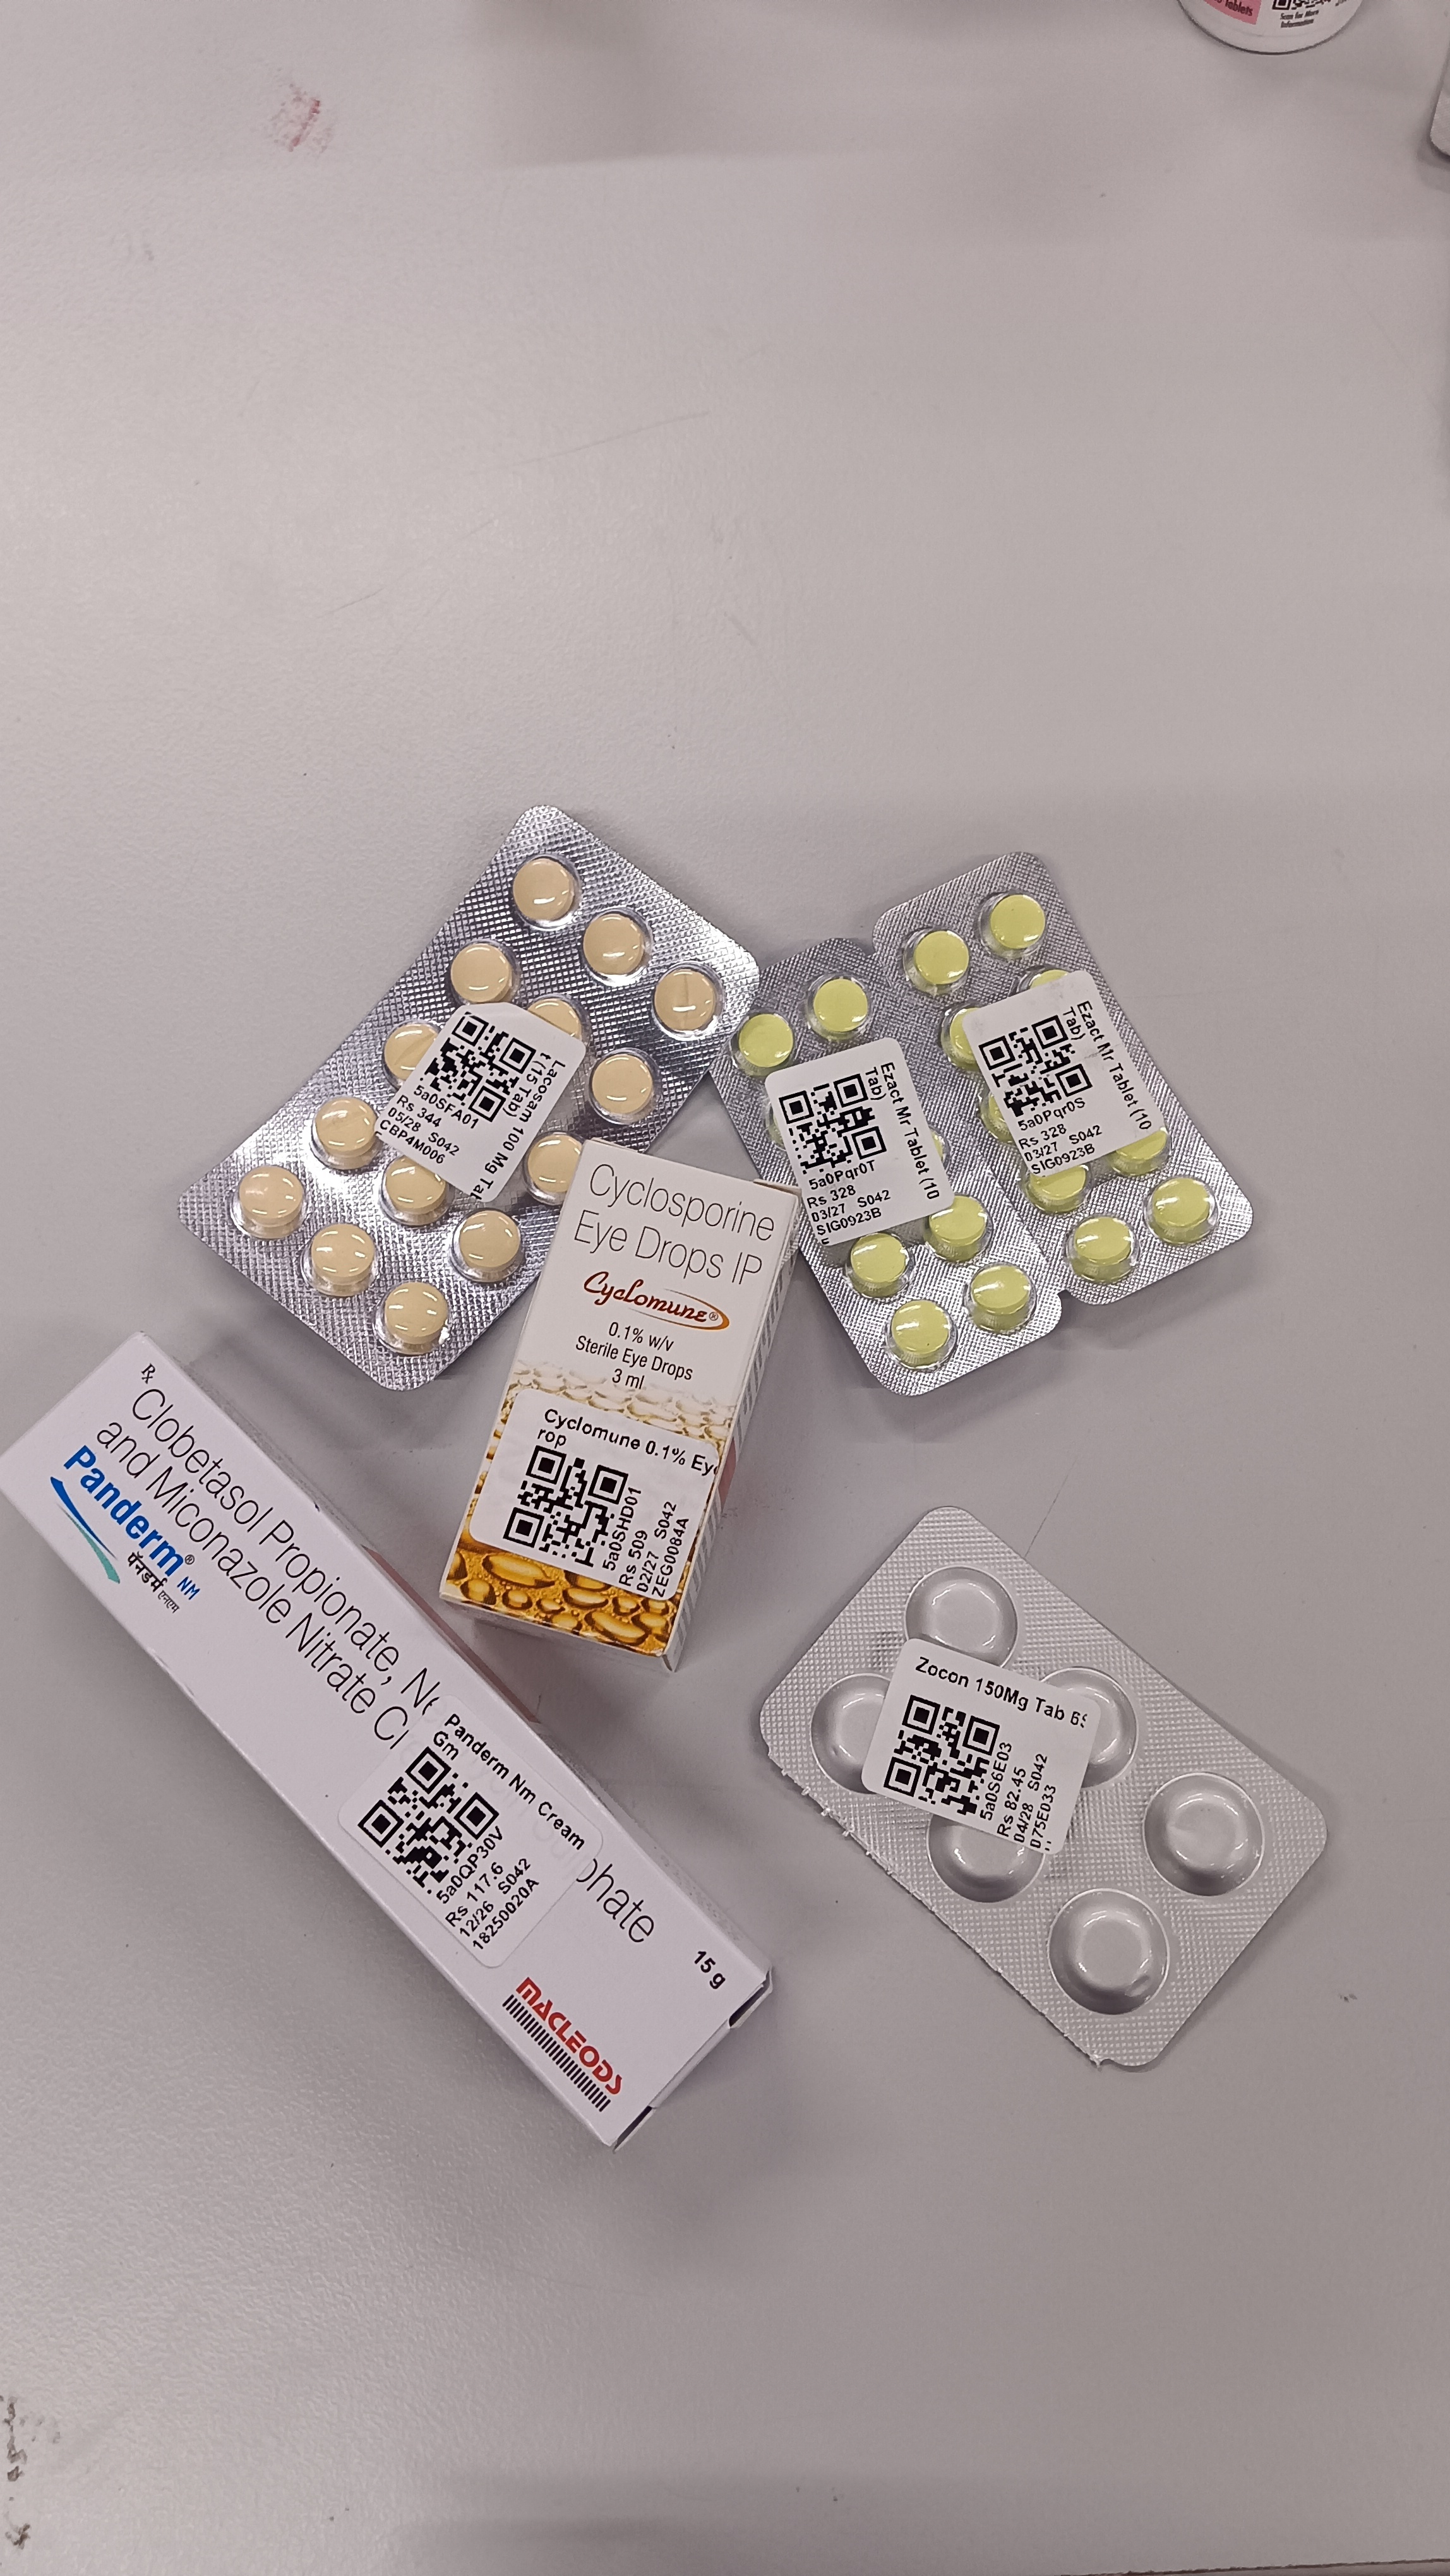QR: (356, 1672, 499, 1821), (503, 1384, 629, 1507)
